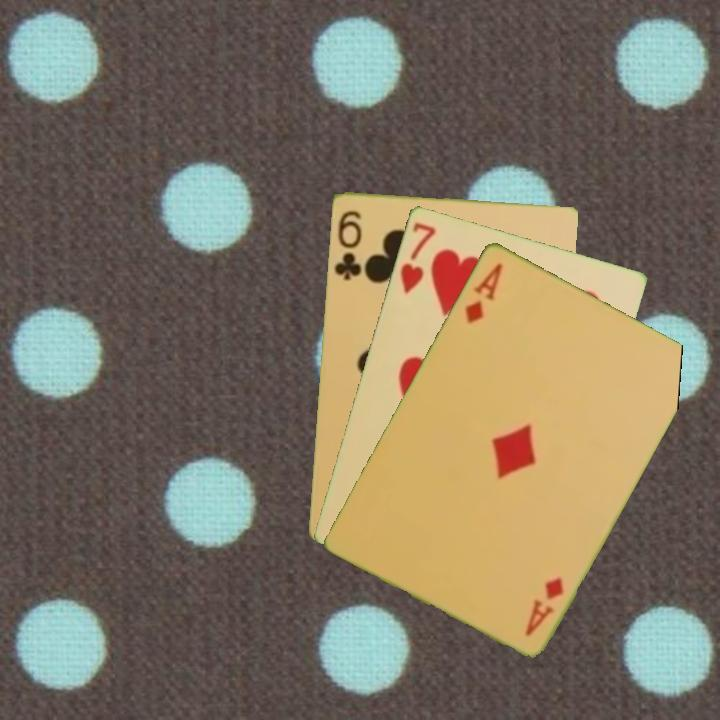6c: (331, 207, 364, 283)
7h: (396, 218, 439, 296)
Ad: (461, 258, 506, 326), (521, 572, 567, 638)
